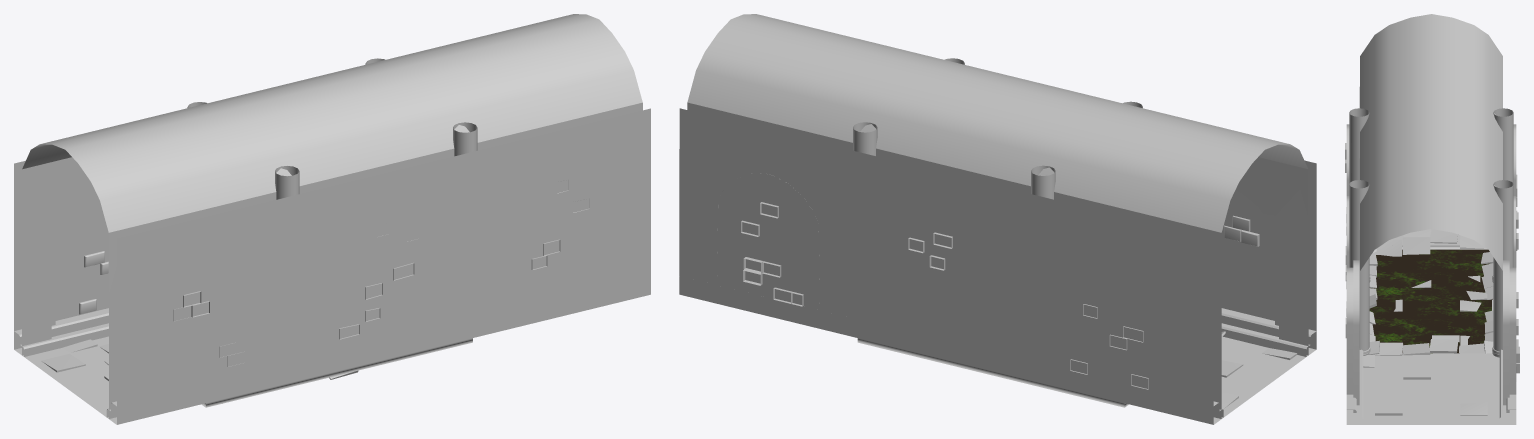
File: Env_Map01_Street01_muddy.fbx
3 renders of one model, left to right at view 1: azimuth 30°, elevation 25°; view 2: azimuth 150°, elevation 25°; view 3: azimuth 270°, elevation 25°, orthographic. The views are drawn at different scales.
Parts seen in each view (by area): view 1: Env_Map01_Street01_muddy; view 2: Env_Map01_Street01_muddy; view 3: Env_Map01_Street01_muddy.
Boxes of the visible parts, x1,y1,x2,y2 form: Env_Map01_Street01_muddy: [14, 14, 650, 424]; Env_Map01_Street01_muddy: [679, 14, 1316, 424]; Env_Map01_Street01_muddy: [1345, 14, 1519, 424].
Bounding box in the file's own units: 600 × 267 × 206.
